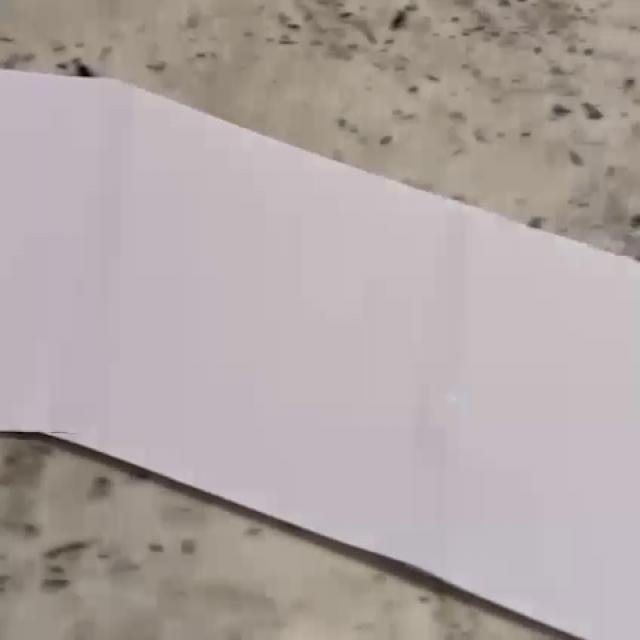road: (0, 69, 640, 640)
